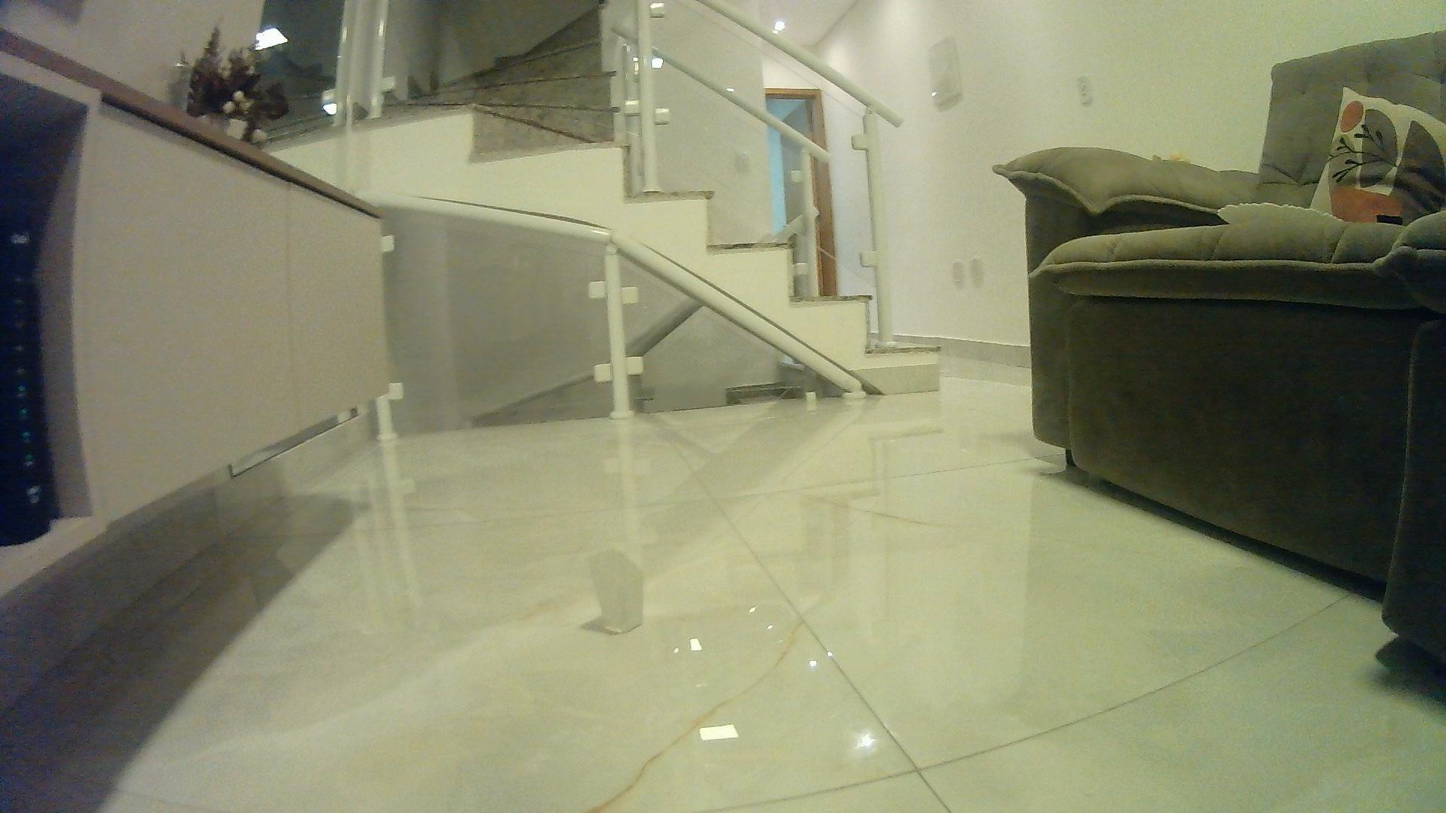erva_daninha: (581, 544, 652, 637)
